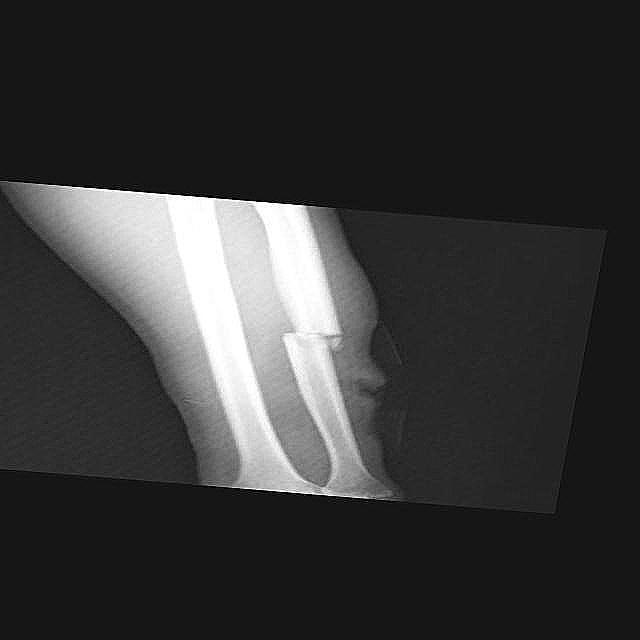bone: (261, 270, 383, 411)
